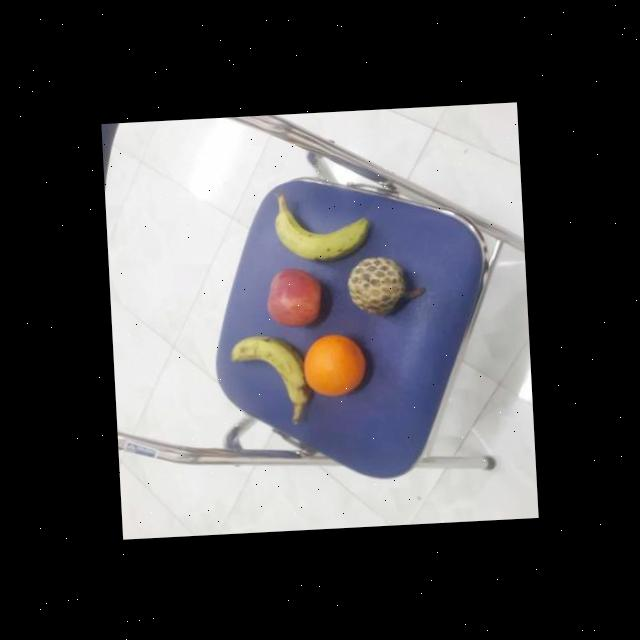Sakya fruit: (346, 252, 410, 316)
apple: (264, 266, 326, 331)
banana: (226, 330, 311, 416), (273, 191, 369, 264)
orange: (300, 332, 370, 398)
